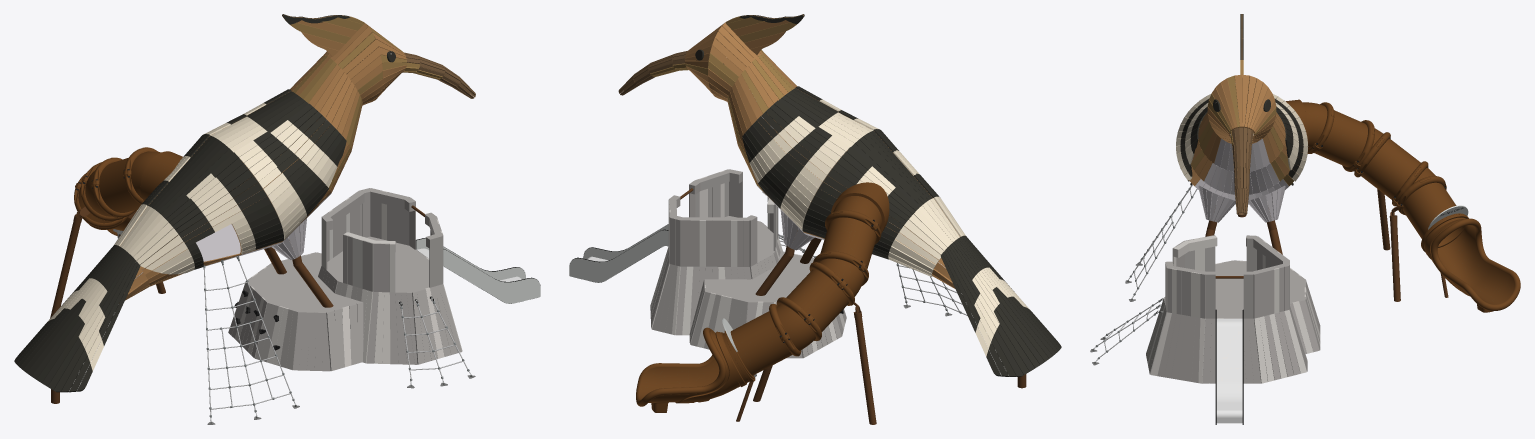
The model's file is rgss-181-p-hoopoe.glb.
3 renders of one model, left to right at view 1: azimuth 30°, elevation 25°; view 2: azimuth 150°, elevation 25°; view 3: azimuth 270°, elevation 25°, orthographic. The views are drawn at different scales.
Visible parts, largest first — view 1: A (18); view 2: A (18); view 3: A (18).
Boxes of the visible parts, bbox=[...] form: A (18): bbox=[14, 14, 540, 424]; A (18): bbox=[569, 14, 1061, 424]; A (18): bbox=[1090, 14, 1520, 424].
Bounding box in the file's own units: 8.69 × 5.6 × 7.09.
1 material, 1 textured.
